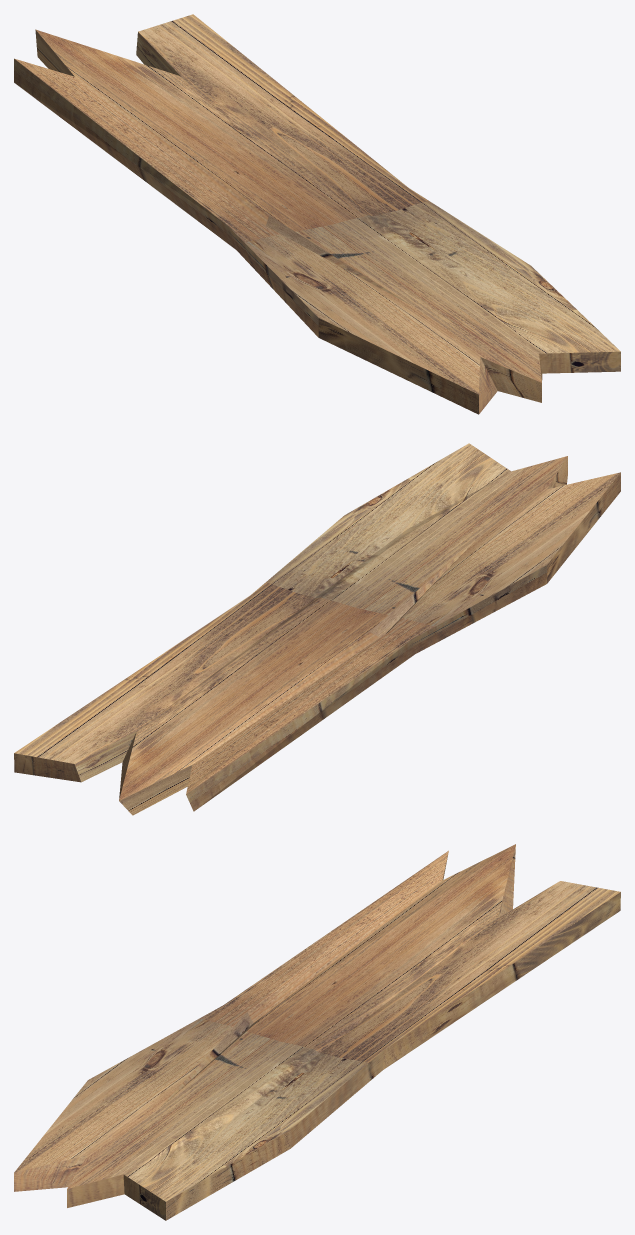
File: plank3.fbx
3 renders of one model, top to bottom at view 1: azimuth 30°, elevation 25°; view 2: azimuth 150°, elevation 25°; view 3: azimuth 330°, elevation 25°, orthographic. The views are drawn at different scales.
Visible parts, largest first — view 1: Plane.034; view 2: Plane.034; view 3: Plane.034.
Part boxes in pixels (x1=…): Plane.034: x1=14, y1=14, x2=620, y2=414; Plane.034: x1=14, y1=443, x2=620, y2=815; Plane.034: x1=14, y1=844, x2=620, y2=1220.
Size of the model in its own units: 147 by 13.22 by 572.
